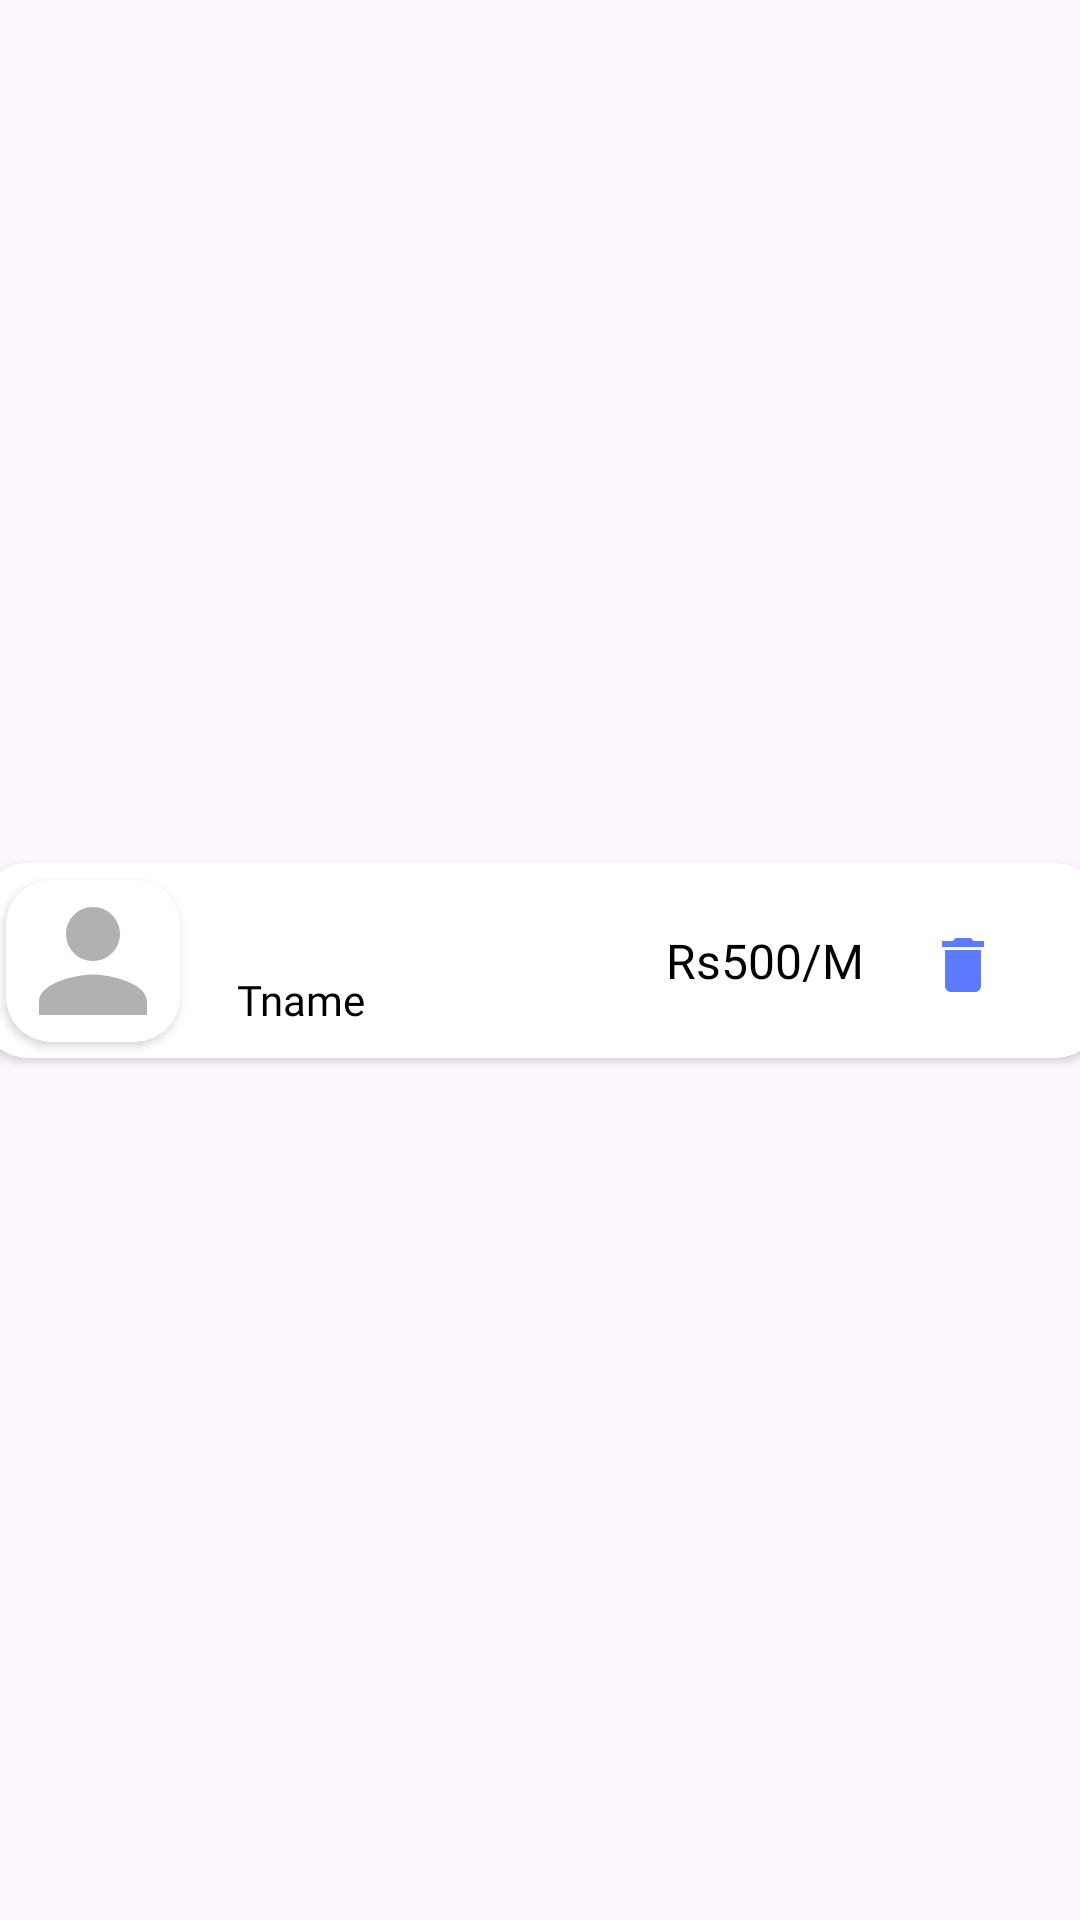

Screen size 1080 x 1920. Icon name, then its box in pixels as [x1=x1, y1=y1, x2=x2, y2=y2]:
delete: [x1=942, y1=938, x2=984, y2=992]
person: [x1=6, y1=907, x2=161, y2=1042]
